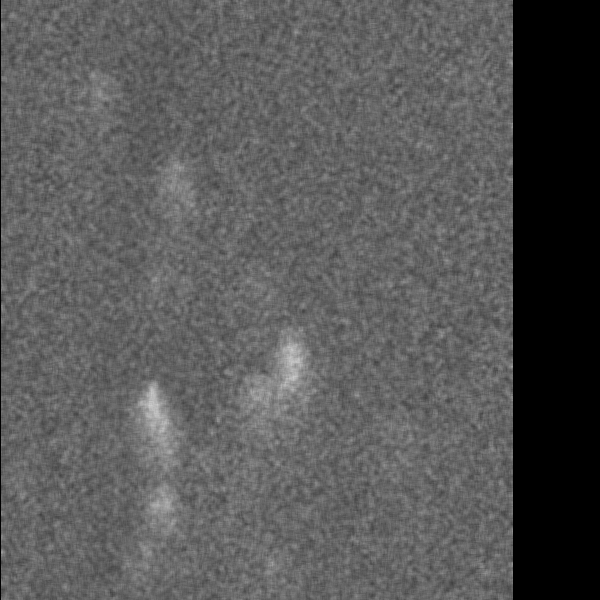spark: (265, 315, 311, 442), (127, 379, 175, 473), (158, 157, 190, 226), (135, 487, 182, 529)
